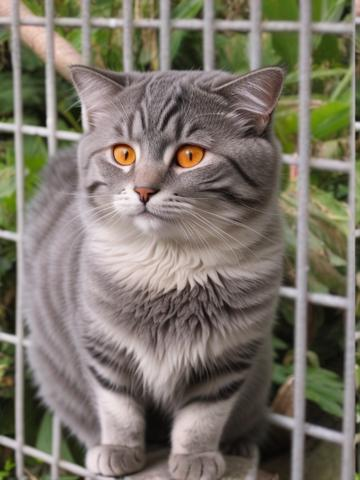cat: (10, 63, 288, 476)
